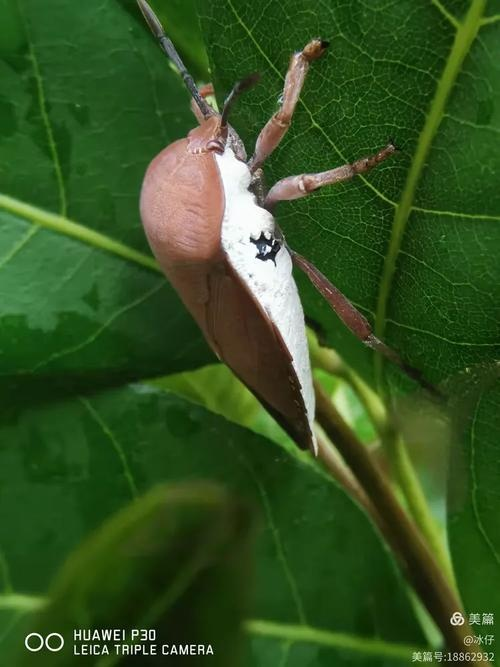Stink_Bug: (146, 93, 392, 422)
